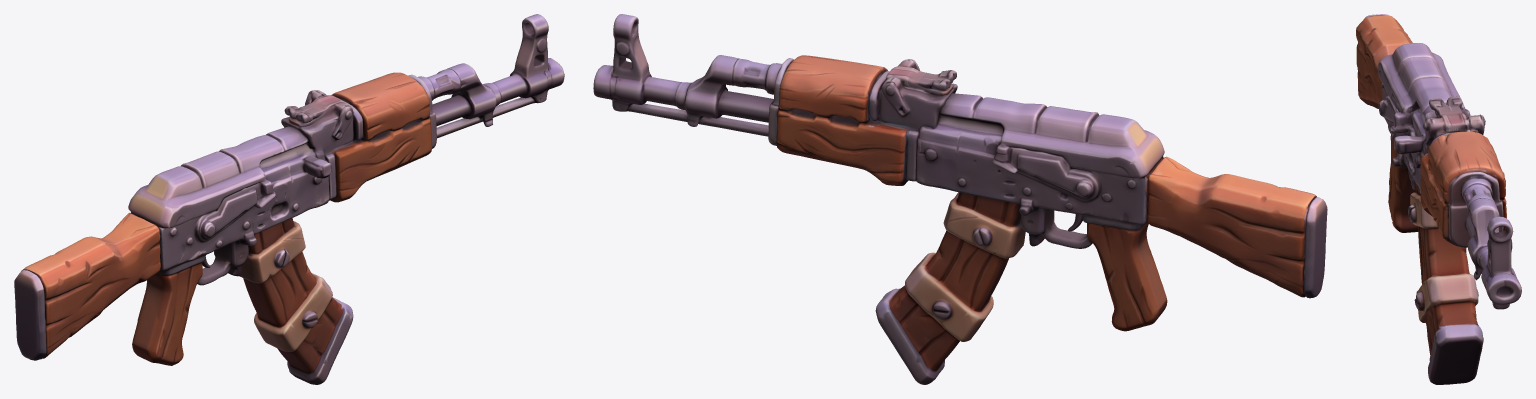
Rendered from AK47_Tripo.glb.
The picture shows the model from 3 angles, left to right: view 1: azimuth 30°, elevation 25°; view 2: azimuth 150°, elevation 25°; view 3: azimuth 270°, elevation 25°; orthographic projection. The views are drawn at different scales.
Parts seen in each view (by area): view 1: tripo_node_bc31e77c-d1e4-460a-a0f5-7f20d6c5bbeb; view 2: tripo_node_bc31e77c-d1e4-460a-a0f5-7f20d6c5bbeb; view 3: tripo_node_bc31e77c-d1e4-460a-a0f5-7f20d6c5bbeb.
Boxes of the visible parts, x1,y1,x2,y2 form: tripo_node_bc31e77c-d1e4-460a-a0f5-7f20d6c5bbeb: (14, 14, 564, 384); tripo_node_bc31e77c-d1e4-460a-a0f5-7f20d6c5bbeb: (593, 14, 1327, 384); tripo_node_bc31e77c-d1e4-460a-a0f5-7f20d6c5bbeb: (1356, 14, 1521, 384).
Size of the model in its own units: 0.9784 by 0.4462 by 0.2323.
Materials: 1 (1 with a texture image).
